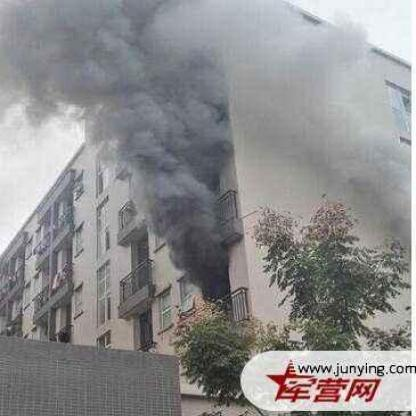smoke: (1, 0, 140, 127), (136, 194, 229, 294), (142, 11, 220, 126), (102, 127, 228, 190)
